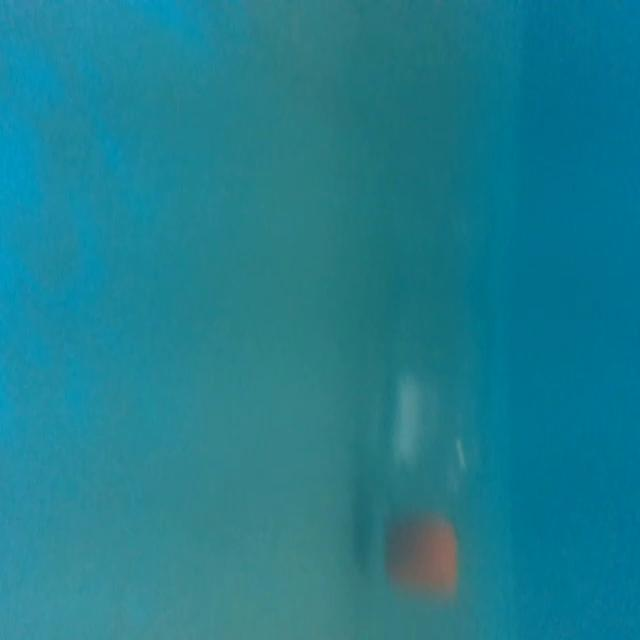plastic bottle: (361, 226, 496, 602)
